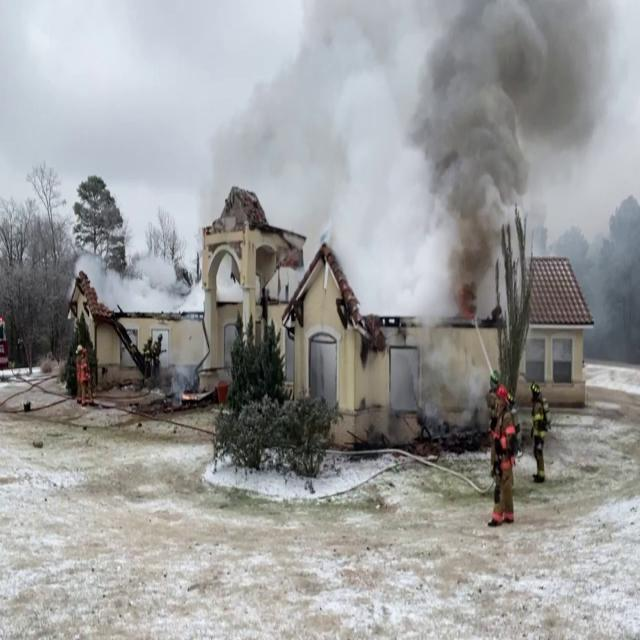Smoke: (388, 0, 612, 364)
